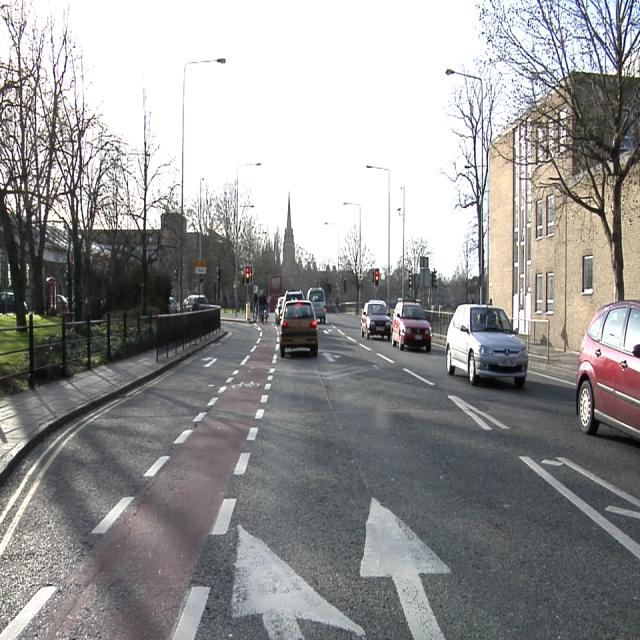Building: (490, 122, 615, 351), (622, 167, 640, 298)
Car: (577, 302, 639, 439), (446, 305, 527, 385), (281, 300, 318, 355), (392, 303, 431, 351), (361, 301, 391, 338), (308, 288, 326, 322), (184, 294, 207, 310)
Road: (0, 311, 639, 629)
Tree: (1, 3, 178, 325), (475, 1, 639, 298), (187, 177, 277, 280), (341, 223, 375, 283), (406, 232, 431, 290)
